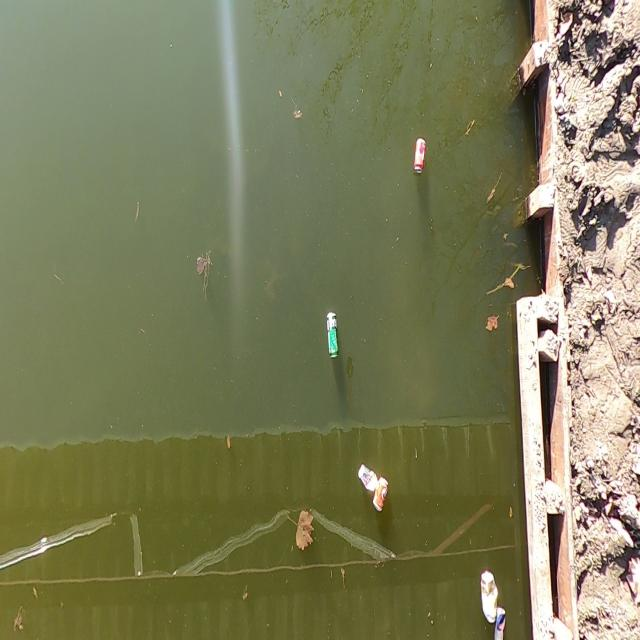Non plastique: (322, 304, 345, 368), (409, 133, 433, 180), (478, 567, 497, 625), (374, 477, 392, 520), (356, 457, 376, 494), (493, 601, 510, 640)
